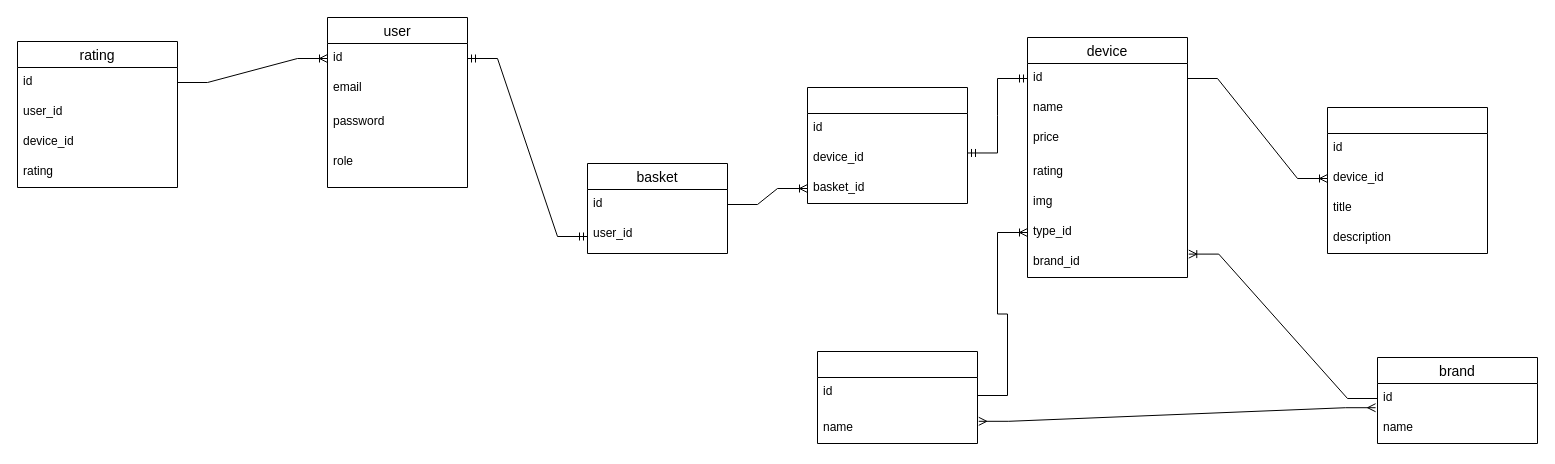
Image size: 1555x464. Some labels were removed from this diagram. The box of each missing label's shape, as (x1, y1, x2, y2) in pixels:
basket_device: (806, 86, 968, 204)
device_info: (1326, 106, 1488, 254)
type: (816, 350, 978, 444)
